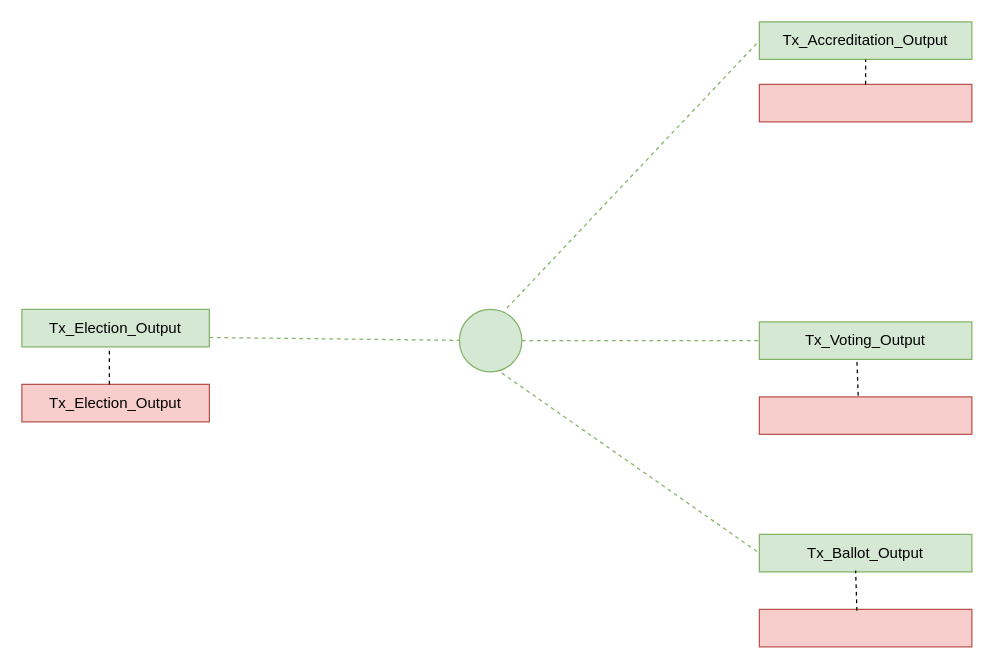
Some shapes in this 994 by 669 pixel diagram are drawn without their labels. The centre of each missing label's shape, as x and y in pixels:
Tx_Accreditation_Input: (x=865, y=102)
Tx_Ballot_Input: (x=865, y=627)
Tx_Voting_Input: (x=865, y=415)
